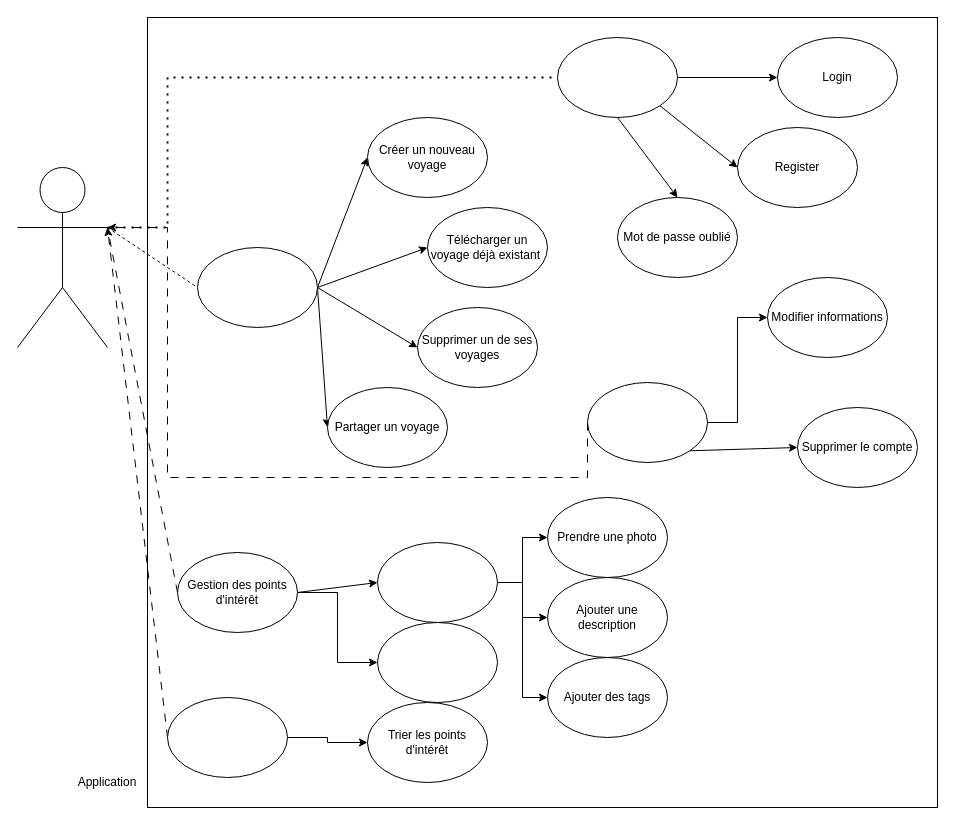
Some shapes in this 955 by 825 pixel diagram are drawn without their labels. Here are the shapes that lost their labels. From the top down, the centre of each, then its label:
At (617,77): "Identification".
At (62,257): "User".
At (257,287): "Gestion des voyages".
At (647,422): "Gestion du compte".
At (437,582): "Créer un point d'intérêt".
At (437,662): "Supprimer un point d'intérêt".
At (227,737): "Consulter les points d'intérêts sur une carte".
